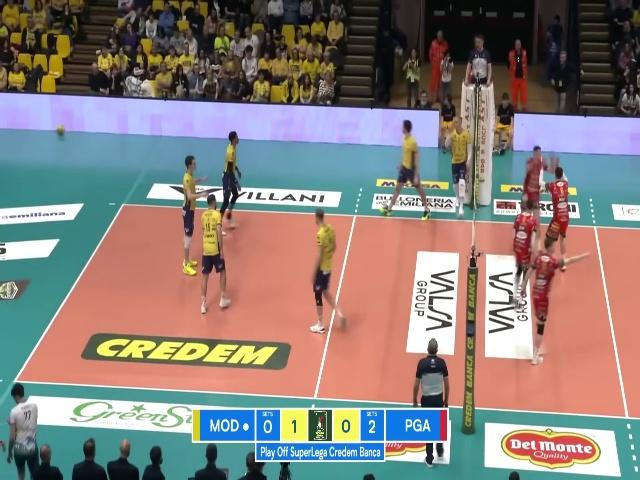volleyball court: (11, 202, 638, 417)
